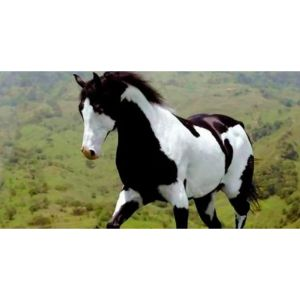horse: (71, 72, 226, 227)
